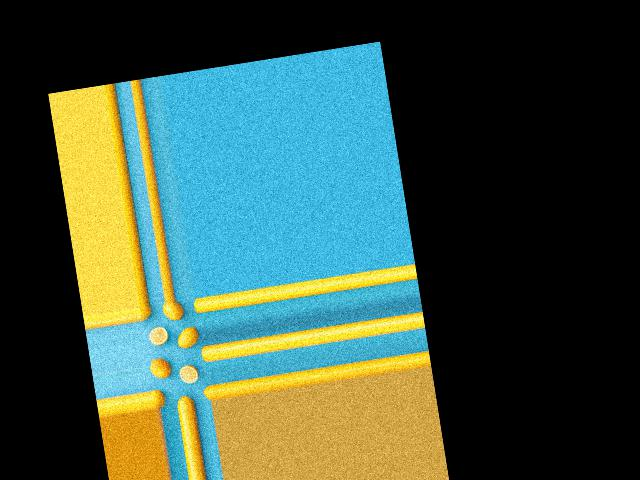lemon: (139, 303, 155, 322)
